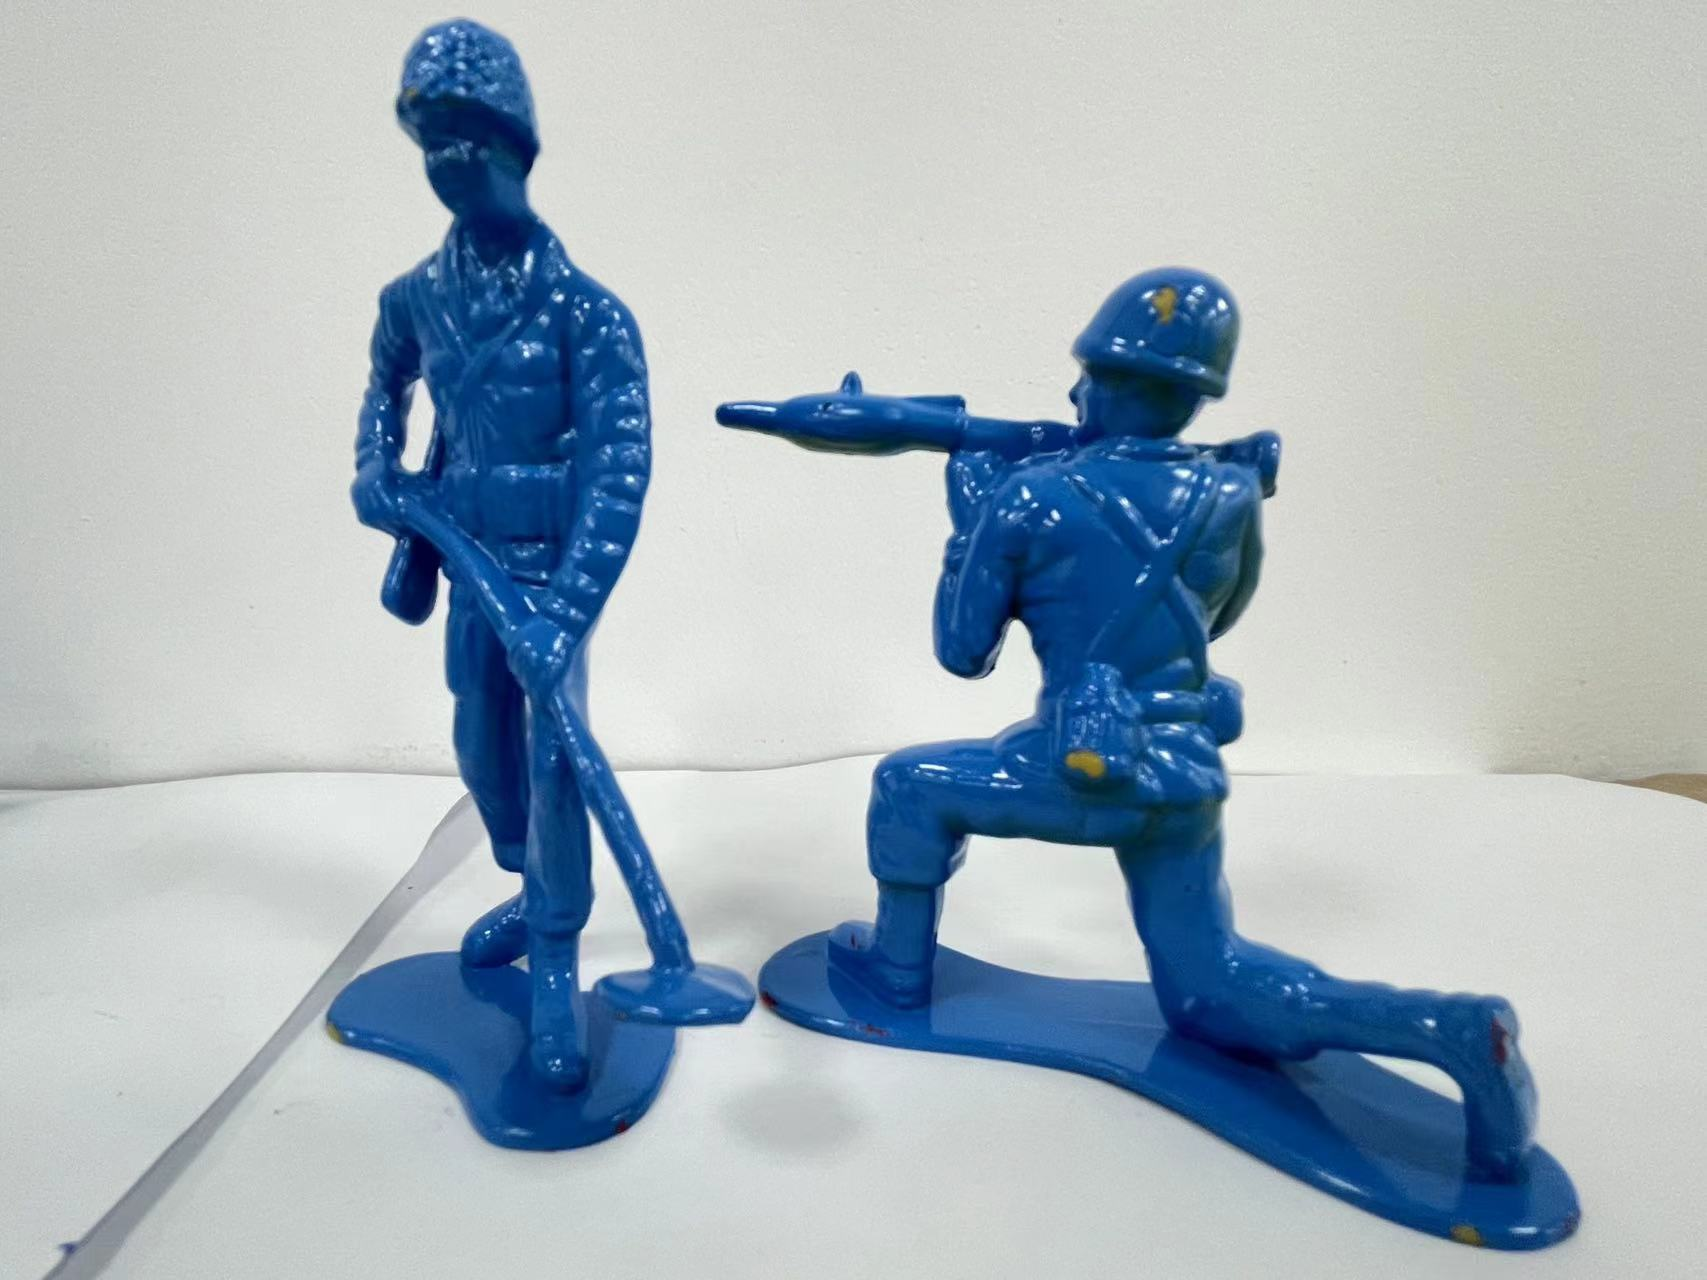blue: (712, 194, 1651, 1260), (259, 19, 766, 1143)
